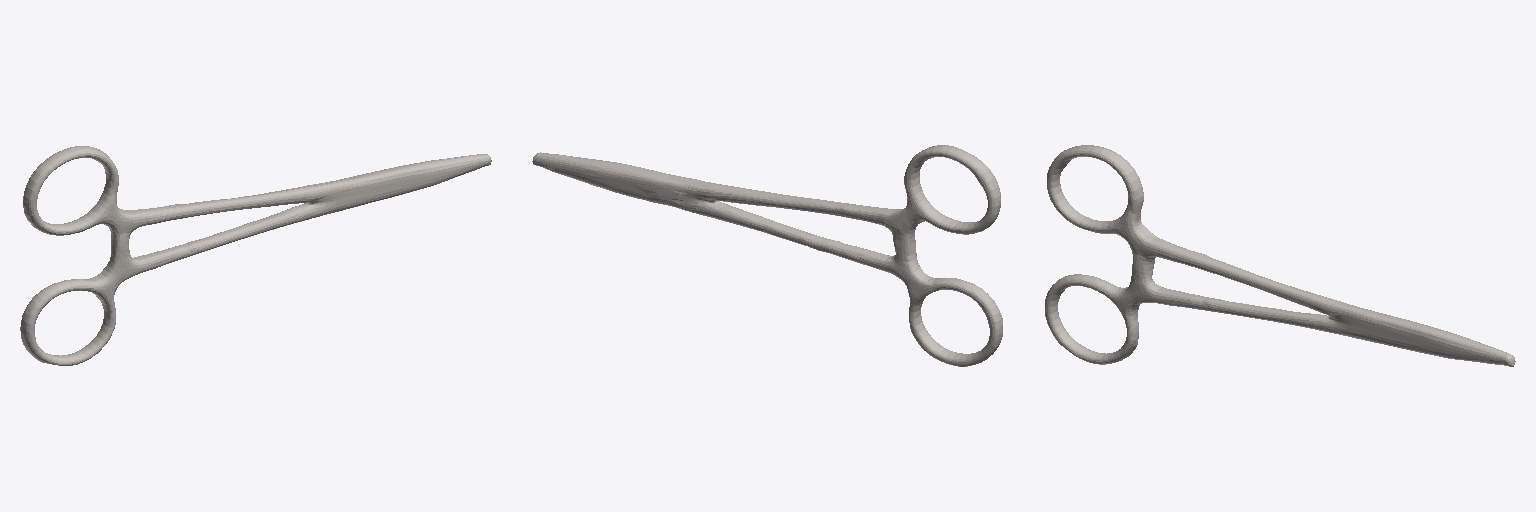
URDF robot description (Tooling_7):
<?xml version="1.0" encoding="utf-8"?>
<!-- This URDF was automatically created by SolidWorks to URDF Exporter! Originally created by Stephen Brawner (brawner@gmail.com)
     Commit Version: 1.6.0-4-g7f85cfe  Build Version: 1.6.7995.38578
     For more information, please see http://wiki.ros.org/sw_urdf_exporter -->
<robot
  name="Tooling_7">
  <link
    name="base_link">
    <inertial>
      <origin
        xyz="0.00019627 0.00010287 1.4876E-05"
        rpy="0 0 0" />
      <mass
        value="0.065184" />
      <inertia
        ixx="1.2106E-05"
        ixy="2.2271E-06"
        ixz="6.5902E-08"
        iyy="0.0001467"
        iyz="-1.3769E-09"
        izz="0.00015854" />
    </inertial>
    <visual>
      <origin
        xyz="0 0 0"
        rpy="0 0 0" />
      <geometry>
        <mesh
          filename="../meshes/base_link.STL" />
      </geometry>
      <material
        name="">
        <color
          rgba="0.77647 0.75686 0.73725 1" />
      </material>
    </visual>
    <collision>
      <origin
        xyz="0 0 0"
        rpy="0 0 0" />
      <geometry>
        <mesh
          filename="../meshes/base_link.STL" />
      </geometry>
    </collision>
  </link>
</robot>

--- What the picture shows (computed from the rendered views, not written in the file) ---
The picture shows the robot from 3 angles, left to right: view 1: azimuth 30°, elevation 25°; view 2: azimuth 150°, elevation 25°; view 3: azimuth 330°, elevation 25°; orthographic projection.
Model Tooling_7 with 1 links and 0 joints (none), rooted at base_link, posed every joint at zero.
Visible links, largest first — view 1: base_link; view 2: base_link; view 3: base_link.
Link boxes in pixels (bbox=[...]): base_link: bbox=[20, 146, 491, 365]; base_link: bbox=[532, 145, 1002, 366]; base_link: bbox=[1045, 145, 1515, 366].
Bounding box of the posed robot: 0.1633 × 0.0065 × 0.0718 m (x, y, z).
Meshes: 1 distinct files referenced, 1 mesh visuals loaded (1 binary STL).
